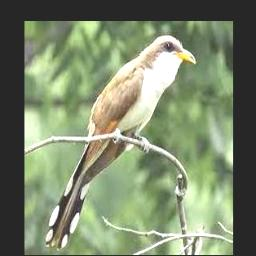Cuckoo: (45, 36, 195, 251)
